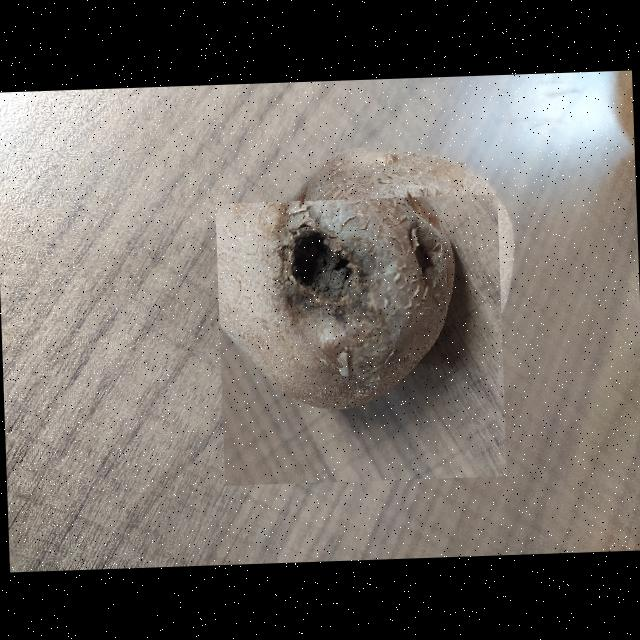Damaged potato: (214, 192, 506, 484)
